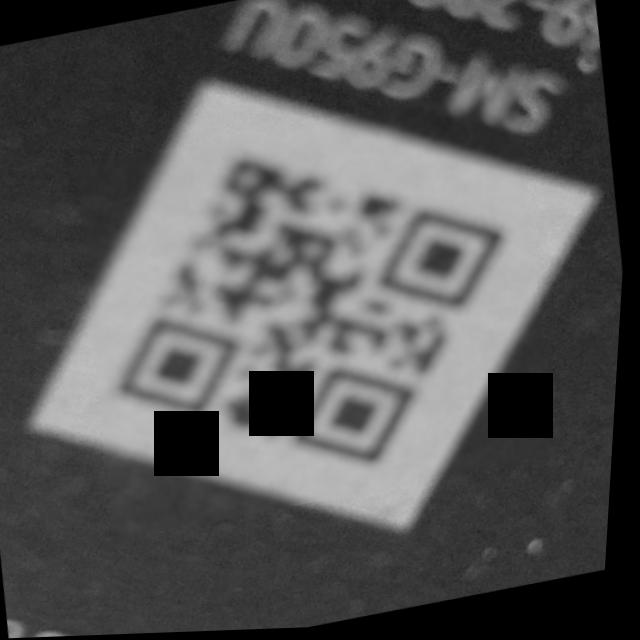QR_CODE: (62, 85, 577, 543)
